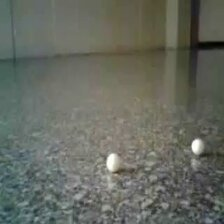w: (106, 153, 121, 171), (191, 138, 203, 154)
